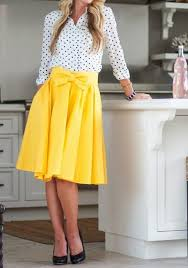C_skirt: (15, 65, 120, 195)
